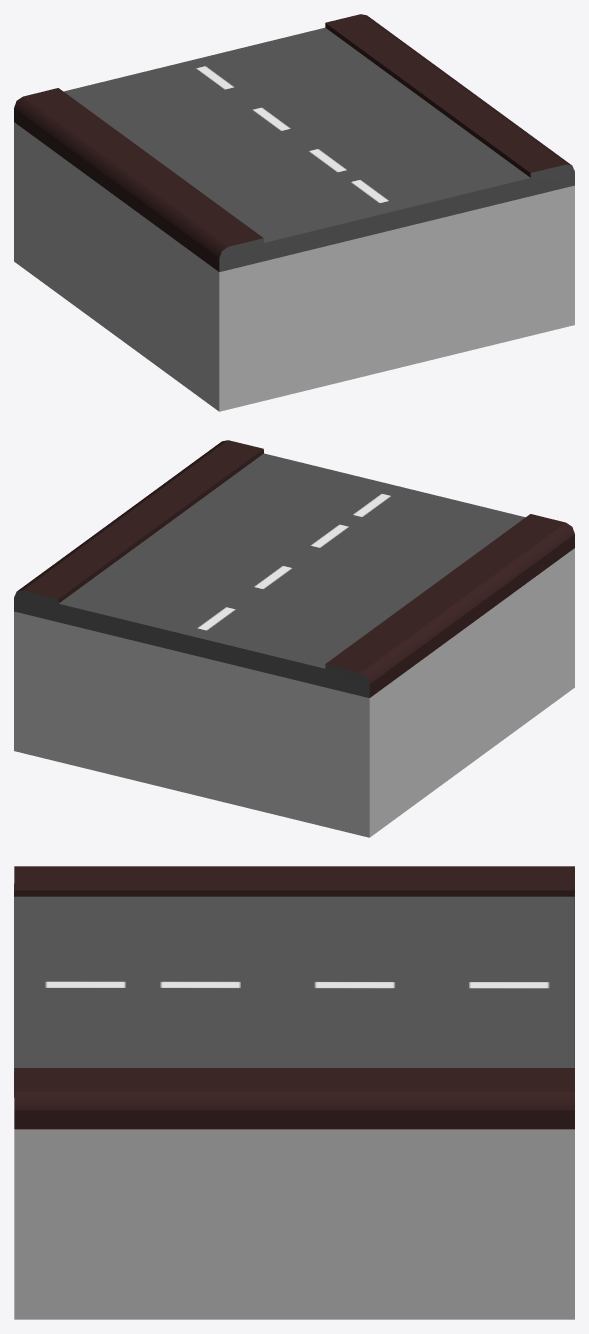
The model's file is Road large border.fbx.
The picture shows the model from 3 angles, top to bottom: view 1: azimuth 30°, elevation 25°; view 2: azimuth 150°, elevation 25°; view 3: azimuth 270°, elevation 25°; orthographic projection. The views are drawn at different scales.
Parts seen in each view (by area): view 1: Road_large_01_Cap, Road_large_01; view 2: Road_large_01_Cap, Road_large_01; view 3: Road_large_01_Cap, Road_large_01.
Boxes of the visible parts, x1,y1,x2,y2 form: Road_large_01_Cap: [14, 14, 574, 271]; Road_large_01: [14, 122, 574, 411]; Road_large_01_Cap: [14, 440, 574, 697]; Road_large_01: [14, 548, 574, 837]; Road_large_01_Cap: [14, 866, 574, 1129]; Road_large_01: [14, 1129, 574, 1319].
Bounding box in the file's own units: 800 × 350 × 801.
